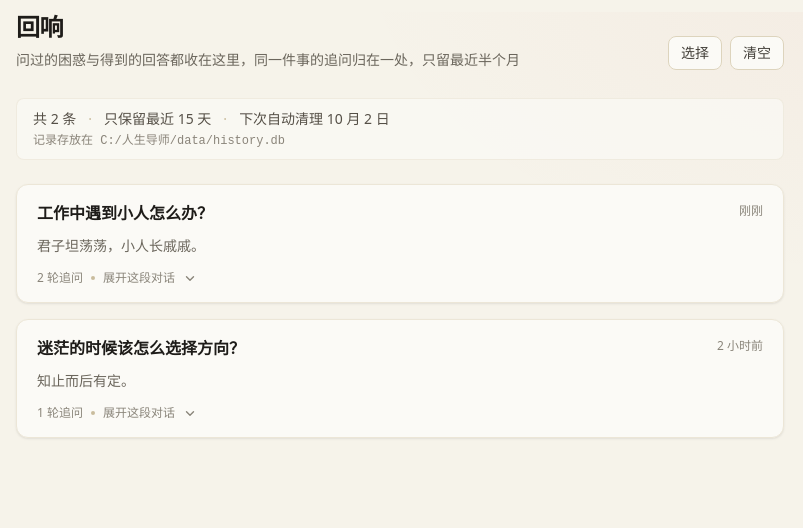
Test case: 回响的勾选删除 › 勾中一段对话后在操作条上报数
The image size is (803, 528).
Click the button "选择": click(695, 53) [668,36,722,70]
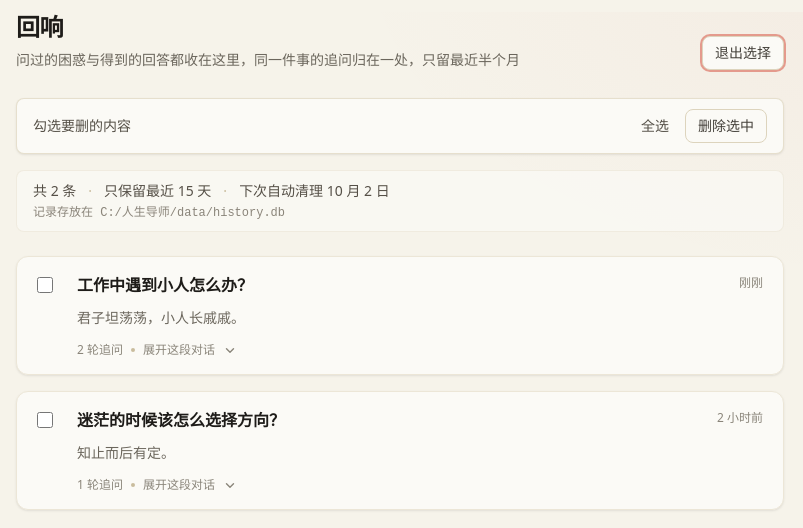
Click the checkbox named "勾选这段对话：工作中遇到小人怎么办？": click(45, 285) [37,277,53,293]
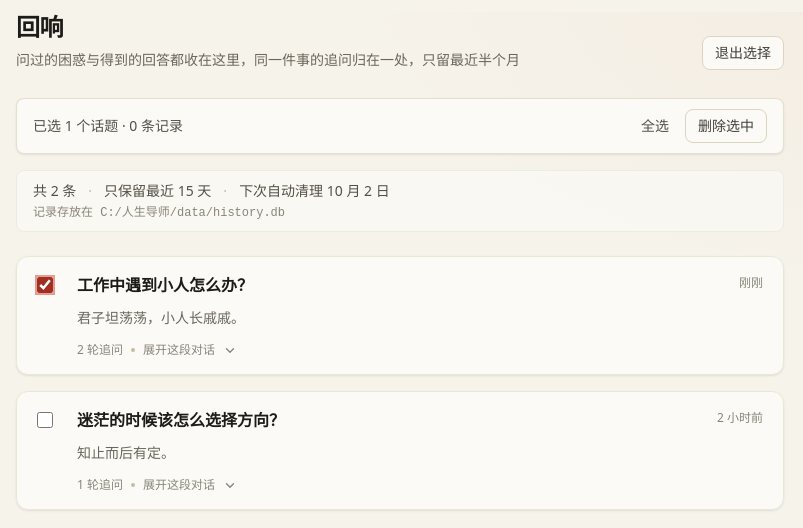
Expected: the text "已选 1 个话题 · 0 条记录" is shown, [33,116,183,135]
